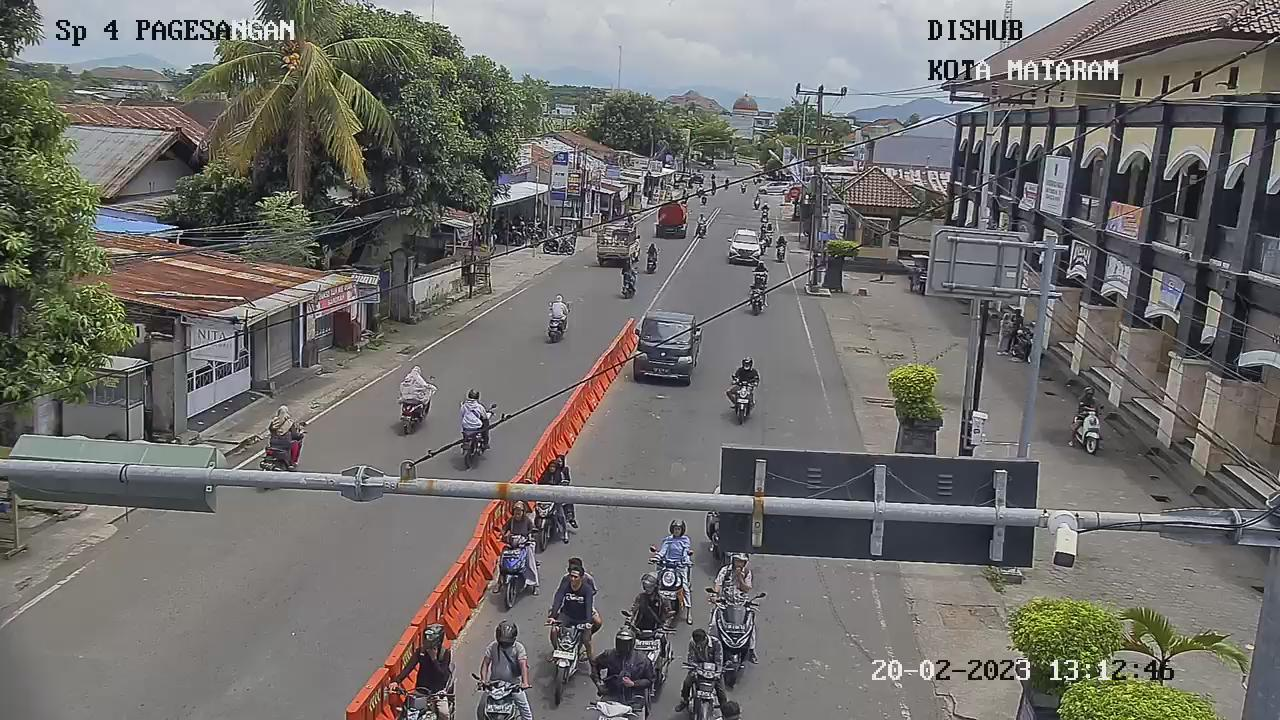car: (630, 312, 699, 387), (725, 227, 762, 268)
motorbike: (705, 590, 767, 676), (537, 614, 593, 709), (487, 523, 539, 607), (648, 544, 696, 624), (626, 610, 673, 687), (468, 670, 532, 720), (682, 656, 727, 720), (1074, 403, 1106, 458), (531, 496, 561, 553), (727, 371, 759, 424), (748, 281, 768, 315), (774, 242, 787, 264), (694, 223, 709, 241), (760, 209, 769, 225), (752, 198, 761, 211)
person: (588, 619, 654, 707), (396, 622, 457, 697), (544, 554, 598, 633), (477, 620, 529, 689), (711, 547, 762, 609), (652, 515, 697, 571), (625, 565, 665, 621), (494, 495, 539, 544), (681, 627, 723, 675), (396, 360, 438, 407), (266, 401, 305, 446), (531, 453, 570, 494), (456, 387, 492, 431), (731, 354, 763, 389), (1076, 383, 1105, 415), (548, 290, 571, 318), (749, 275, 768, 297), (644, 242, 661, 264), (620, 256, 635, 280), (774, 232, 788, 251), (753, 260, 768, 276), (695, 212, 709, 228), (764, 220, 776, 234), (760, 200, 769, 212), (754, 192, 761, 201)
truck: (595, 220, 642, 265), (653, 200, 691, 240)
